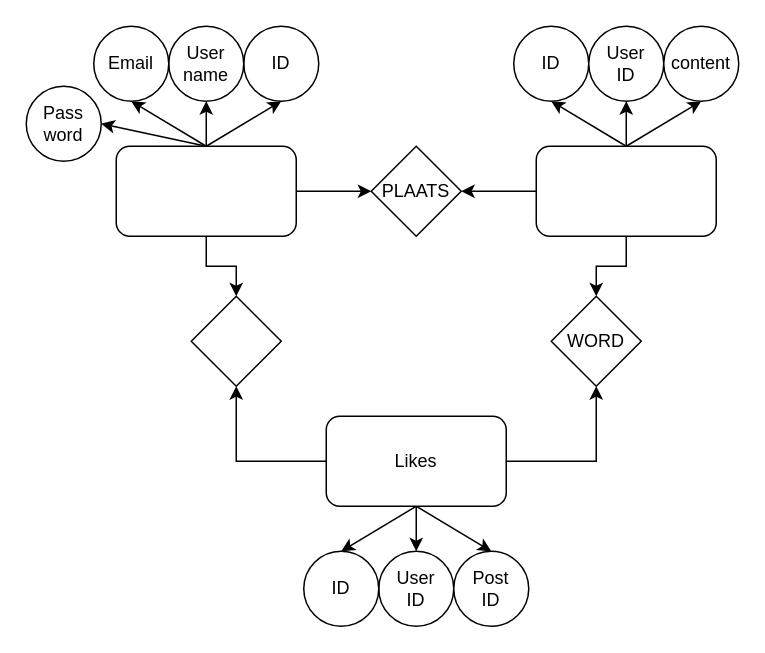
This 765x653 diagram has some shape labels left out. Each missing label, with the centre of its shape:
"DRUK" goes at (x=235, y=340).
"Post" goes at (x=625, y=190).
"Users" goes at (x=205, y=190).
